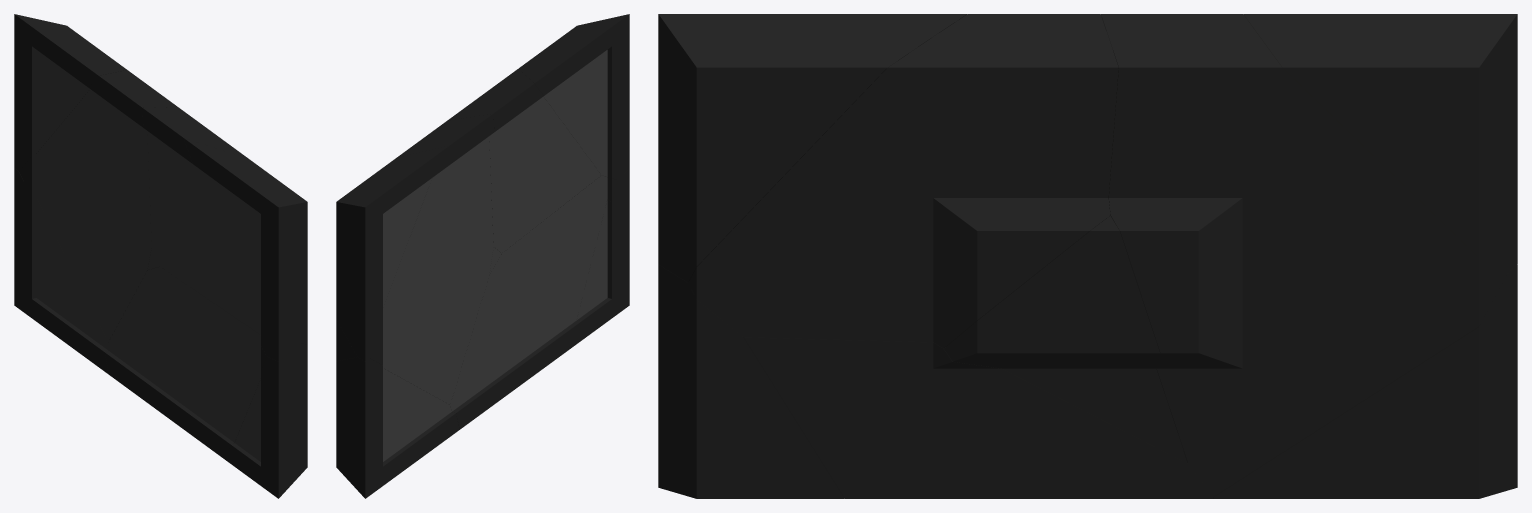
File: TV_Fractured.fbx
The picture shows the model from 3 angles, left to right: view 1: azimuth 30°, elevation 25°; view 2: azimuth 150°, elevation 25°; view 3: azimuth 270°, elevation 25°; orthographic projection. The views are drawn at different scales.
Parts seen in each view (by area): view 1: tivi_cell.001, tivi_cell.002, tivi_cell.007, tivi_cell.006, tivi_cell.004, tivi_cell.003, tivi_cell; view 2: tivi_cell.001, tivi_cell.002, tivi_cell.006, tivi_cell.004, tivi_cell.003, tivi_cell.007, tivi_cell; view 3: tivi_cell.001, tivi_cell.006, tivi_cell.002, tivi_cell.007, tivi_cell.004, tivi_cell.003, tivi_cell.005, tivi_cell.
Part boxes in pixels (x1,y1,x2,y2): tivi_cell.001: (19, 70, 177, 342); tivi_cell.002: (105, 266, 266, 459); tivi_cell.007: (183, 138, 307, 361); tivi_cell.006: (142, 107, 307, 344); tivi_cell.004: (14, 14, 126, 171); tivi_cell.003: (14, 168, 109, 374); tivi_cell: (225, 343, 307, 498); tivi_cell.001: (336, 113, 494, 404); tivi_cell.002: (450, 175, 617, 429); tivi_cell.006: (447, 69, 601, 253); tivi_cell.004: (336, 146, 449, 361); tivi_cell.003: (336, 357, 459, 498); tivi_cell.007: (518, 14, 629, 180); tivi_cell: (576, 168, 629, 344); tivi_cell.001: (1101, 14, 1506, 496); tivi_cell.006: (688, 14, 1118, 348); tivi_cell.002: (743, 337, 1213, 498); tivi_cell.007: (658, 14, 966, 282); tivi_cell.004: (1243, 14, 1517, 273); tivi_cell.003: (1213, 264, 1517, 498); tivi_cell.005: (944, 216, 1187, 463); tivi_cell: (658, 264, 844, 498).
Size of the model in its own units: 110 by 589 by 968.
